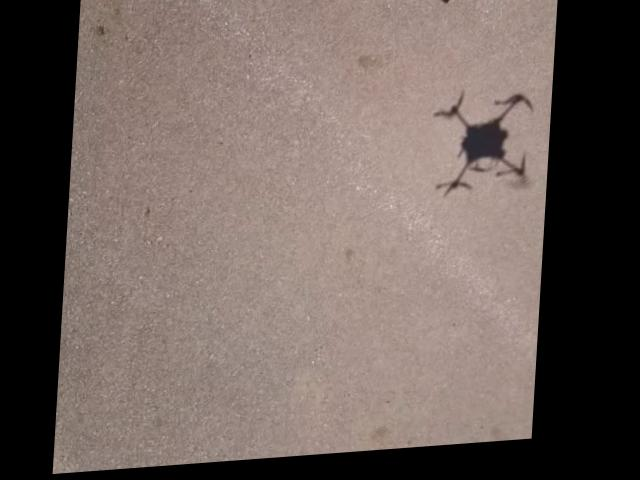fire-poster: (372, 0, 529, 16)
